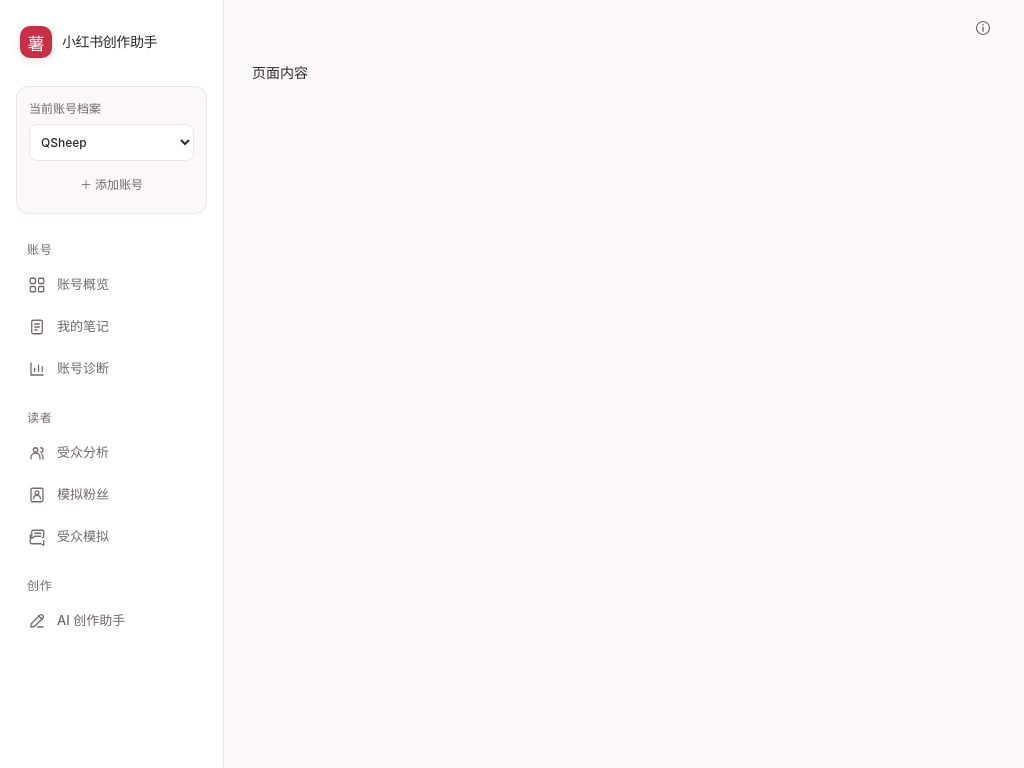
WorkspaceShell › keeps public help supplementary even if the old expanded preference was set
Click the button named "页面帮助".
click(983, 28)  # box [970,15,996,41]
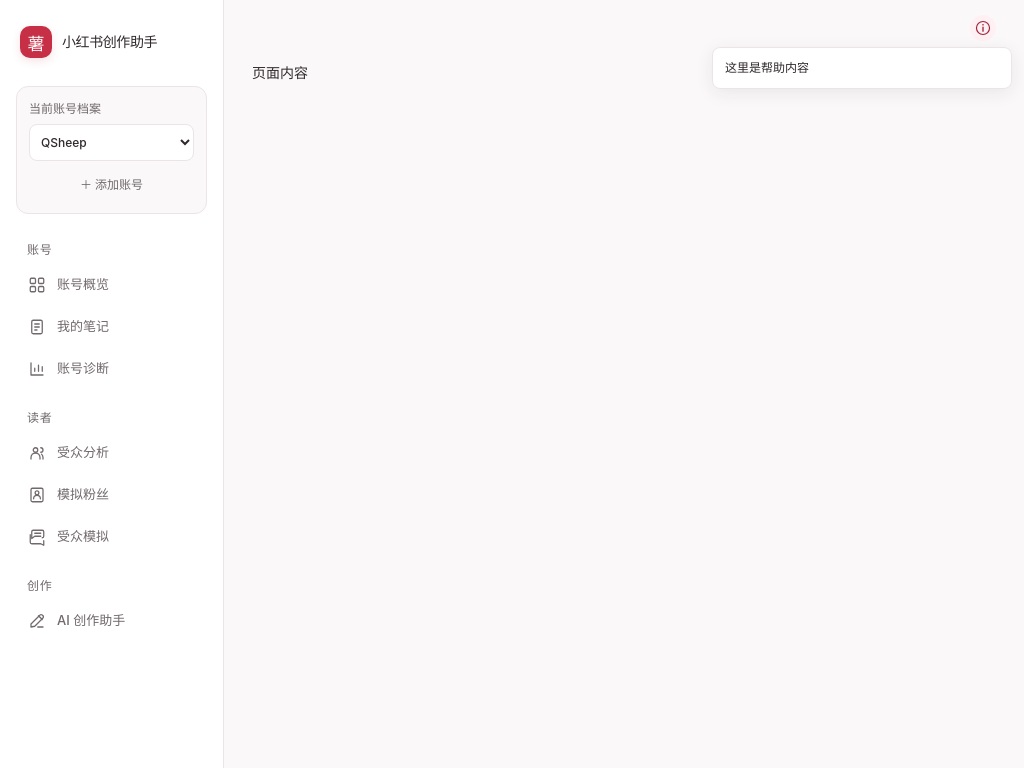
Now the tooltip reads "这里是帮助内容", box [725,60,809,75]
Press Escape
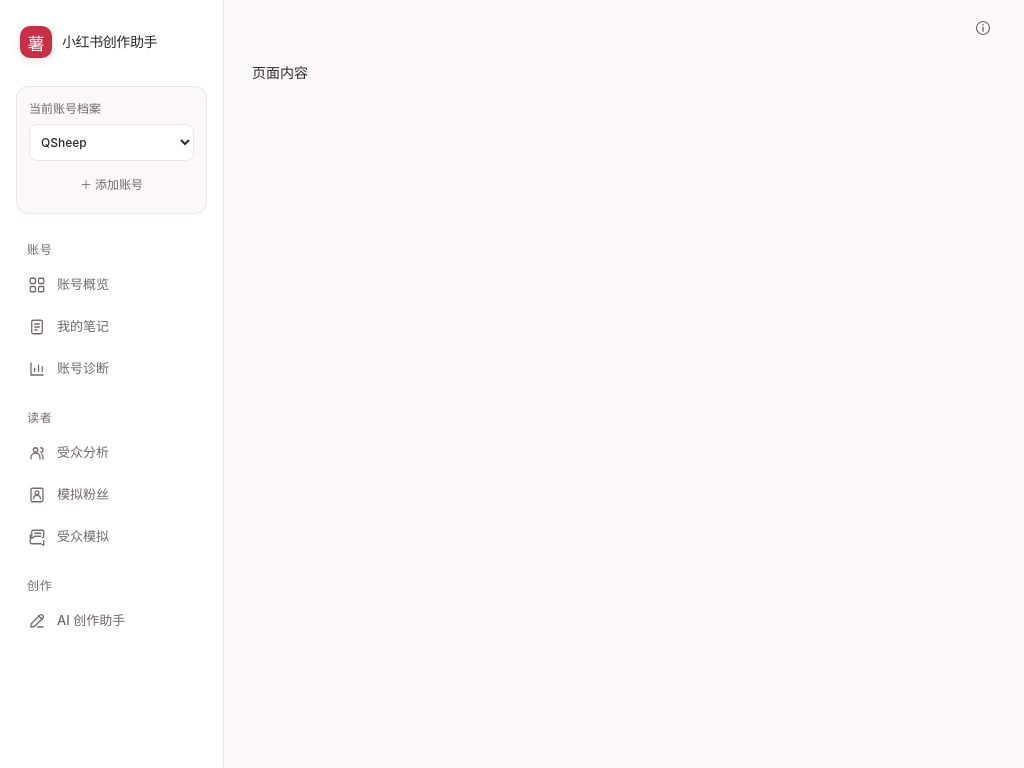
Now the tooltip "这里是帮助内容" is gone
